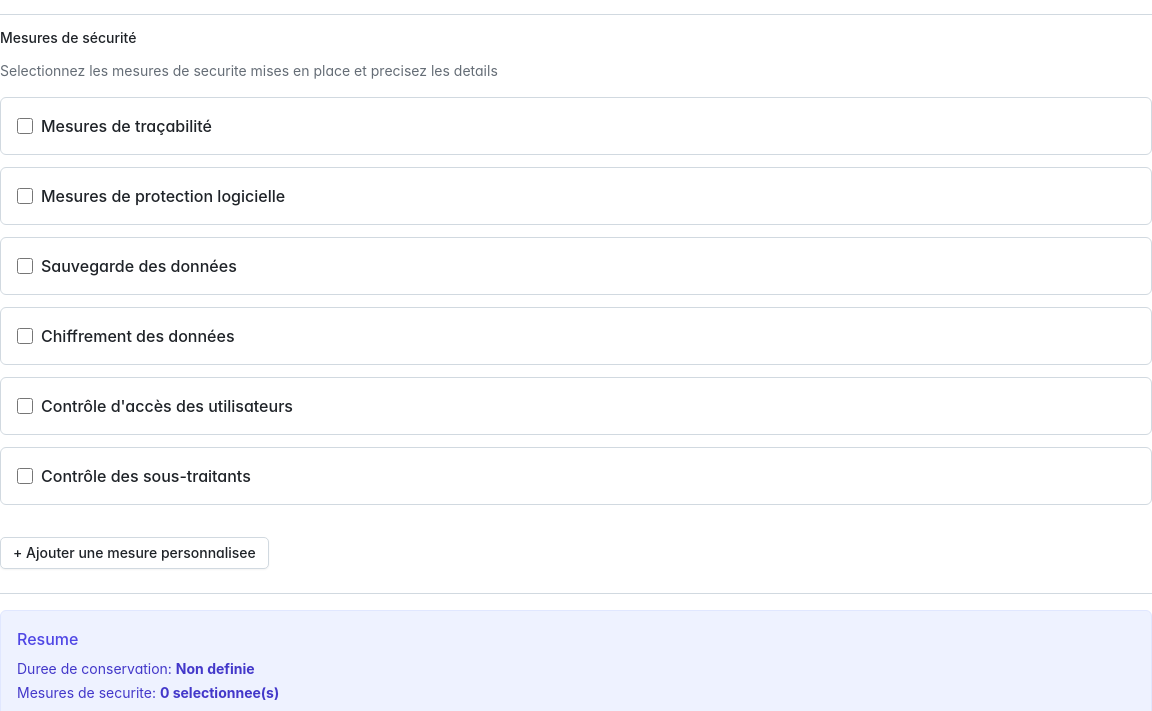
Test case: Step4Security › "+ Ajouter une mesure personnalisee" appends a custom row with empty type + precision fields
(page scrolled)
Click the button "+ Ajouter une mesure personnalisee" at (134,553), box [0,537,269,569]
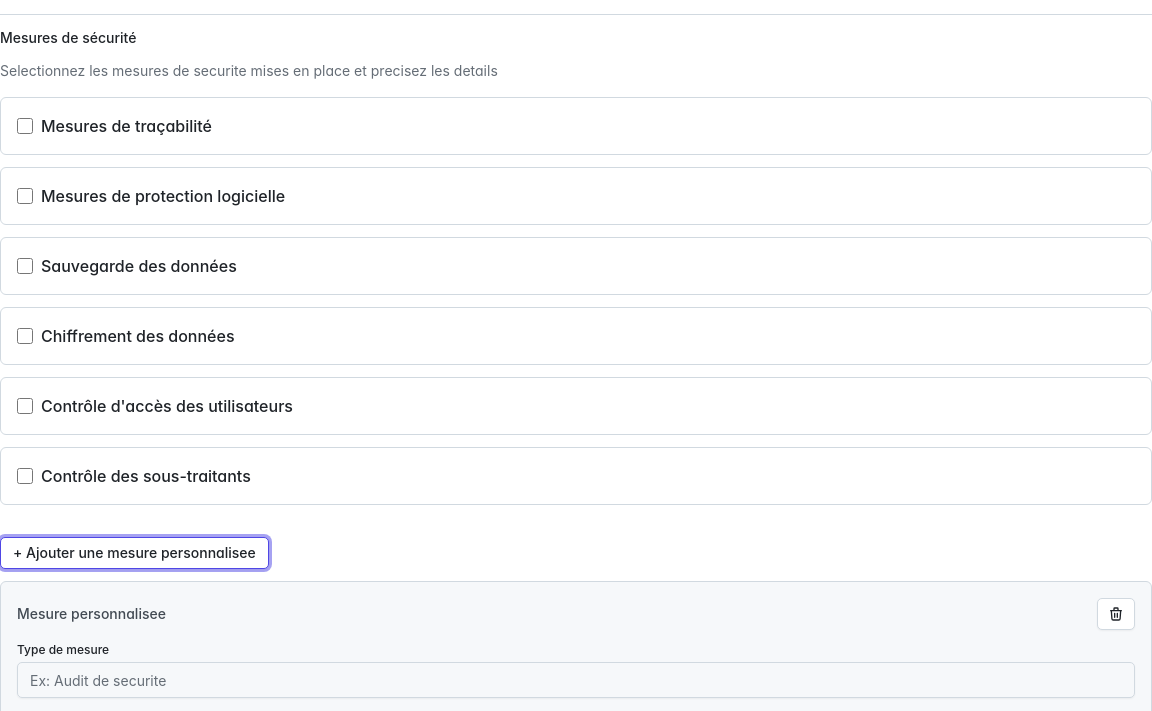
Result: the text "Mesure personnalisee" is shown at [17,604,166,624]
Result: the field with placeholder "Ex: Audit de securite" is shown at [17,662,1135,698]
